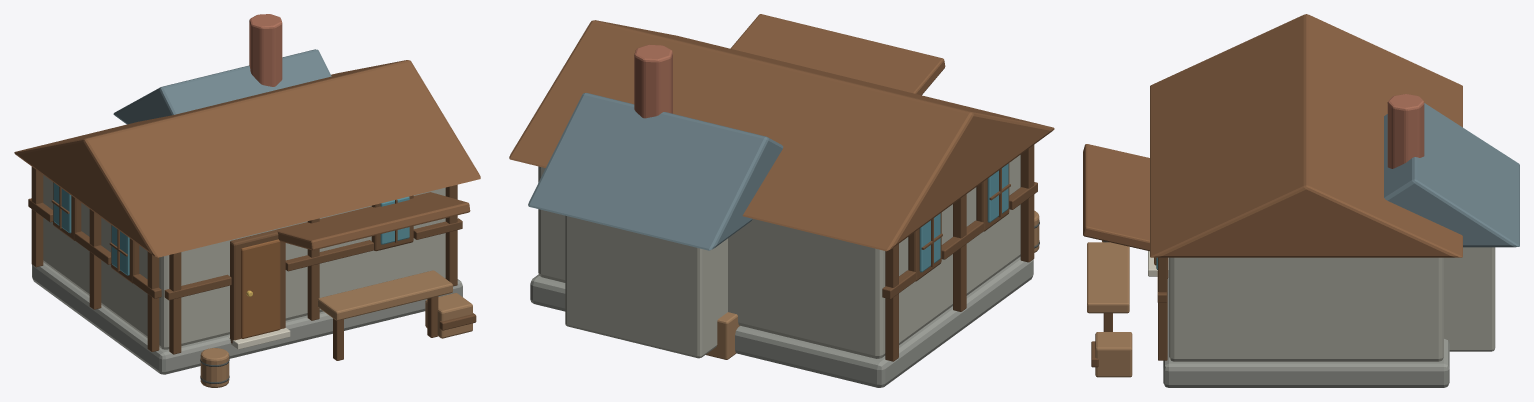
The model's file is temperate-artisan-3.glb.
3 renders of one model, left to right at view 1: azimuth 30°, elevation 25°; view 2: azimuth 150°, elevation 25°; view 3: azimuth 270°, elevation 25°, orthographic. The views are drawn at different scales.
Parts seen in each view (by area): view 1: Wood shingles, Fieldstone, Dark beams, Foundation stone, Aged oak, Blue slate, Door oak, Chimney brick, Blue glass, Cut limestone; view 2: Wood shingles, Fieldstone, Blue slate, Foundation stone, Dark beams, Chimney brick, Blue glass, Aged oak; view 3: Wood shingles, Fieldstone, Blue slate, Foundation stone, Aged oak, Chimney brick, Dark beams.
Part boxes in pixels (<box>): Wood shingles: <box>14,60,480,257</box>; Fieldstone: <box>43,175,445,349</box>; Dark beams: <box>28,167,476,360</box>; Foundation stone: <box>32,262,462,374</box>; Aged oak: <box>200,270,472,387</box>; Blue slate: <box>113,49,331,124</box>; Door oak: <box>241,239,280,338</box>; Chimney brick: <box>249,14,282,86</box>; Blue glass: <box>53,183,409,275</box>; Cut limestone: <box>229,328,290,349</box>; Wood shingles: <box>509,14,1054,251</box>; Fieldstone: <box>538,155,1020,358</box>; Blue slate: <box>528,93,783,250</box>; Foundation stone: <box>530,256,1033,387</box>; Dark beams: <box>882,145,1037,361</box>; Chimney brick: <box>634,44,672,118</box>; Blue glass: <box>919,163,1008,272</box>; Aged oak: <box>706,210,1039,359</box>; Wood shingles: <box>1083,14,1462,257</box>; Fieldstone: <box>1169,247,1495,361</box>; Blue slate: <box>1384,103,1519,247</box>; Foundation stone: <box>1163,258,1449,387</box>; Aged oak: <box>1087,240,1132,377</box>; Chimney brick: <box>1387,94,1424,168</box>; Dark beams: <box>1091,257,1168,367</box>.
Bounding box in the file's own units: 4.34 × 2.83 × 4.61.
